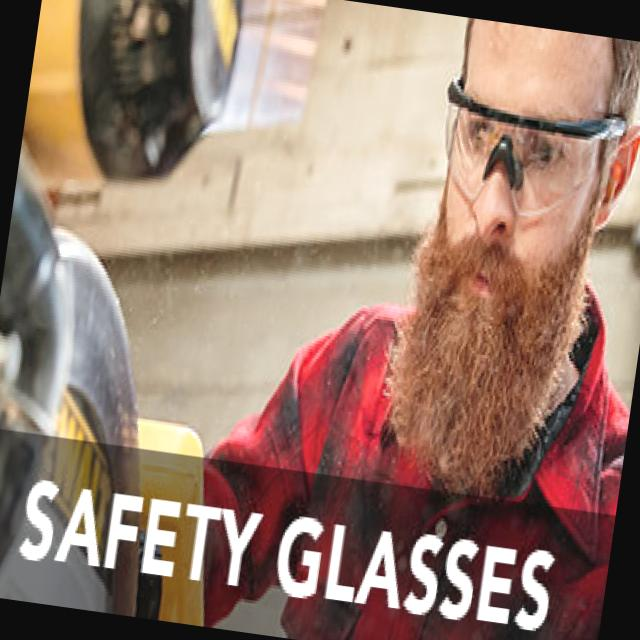goggles: (416, 54, 632, 232)
no-vest: (178, 261, 640, 640)
